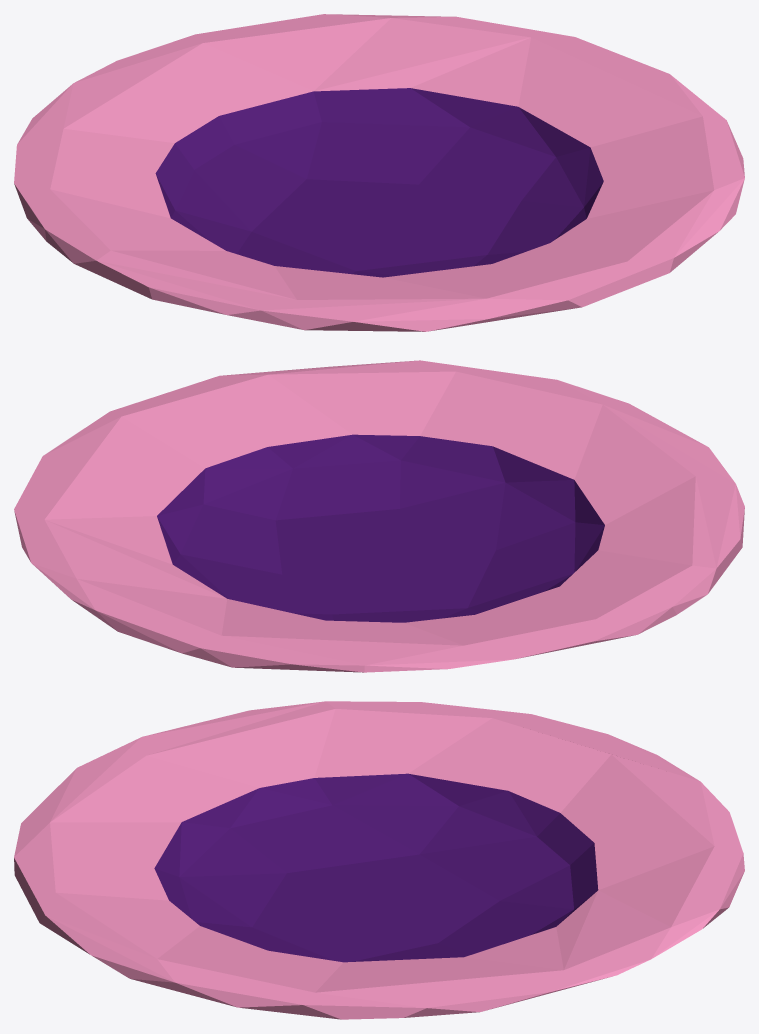
File: PlateBig02.fbx
3 renders of one model, top to bottom at view 1: azimuth 30°, elevation 25°; view 2: azimuth 150°, elevation 25°; view 3: azimuth 270°, elevation 25°, orthographic.
Visible parts, largest first — view 1: PlateBig02LowPoly; view 2: PlateBig02LowPoly; view 3: PlateBig02LowPoly.
Boxes of the visible parts, x1=… form: PlateBig02LowPoly: x1=14, y1=14, x2=744, y2=331; PlateBig02LowPoly: x1=14, y1=360, x2=744, y2=672; PlateBig02LowPoly: x1=14, y1=701, x2=744, y2=1019.
Size of the model in its own units: 28.86 by 2.82 by 28.91.
